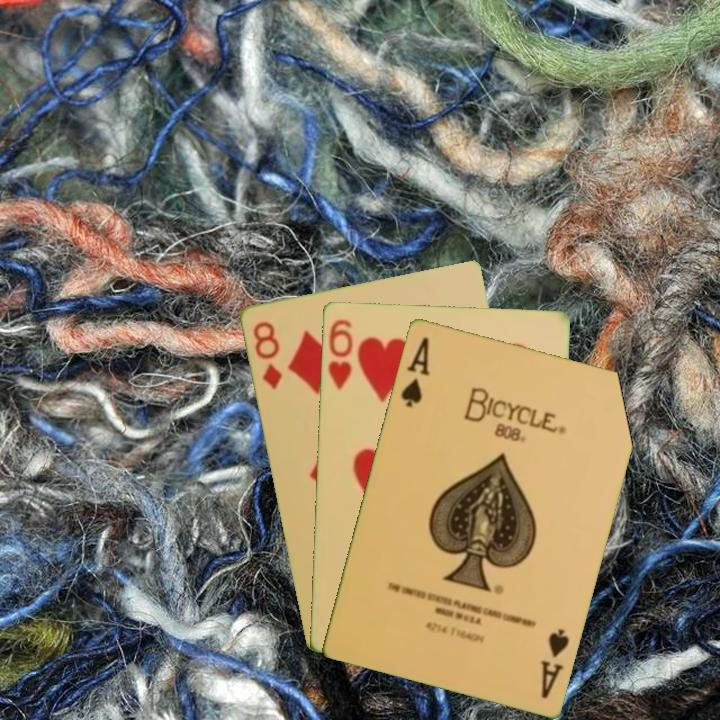6h: (324, 315, 355, 392)
8d: (249, 317, 285, 392)
As: (536, 624, 572, 701), (397, 333, 432, 410)
